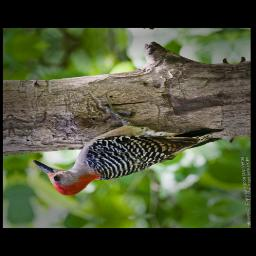Woodpecker: (23, 80, 231, 206)
